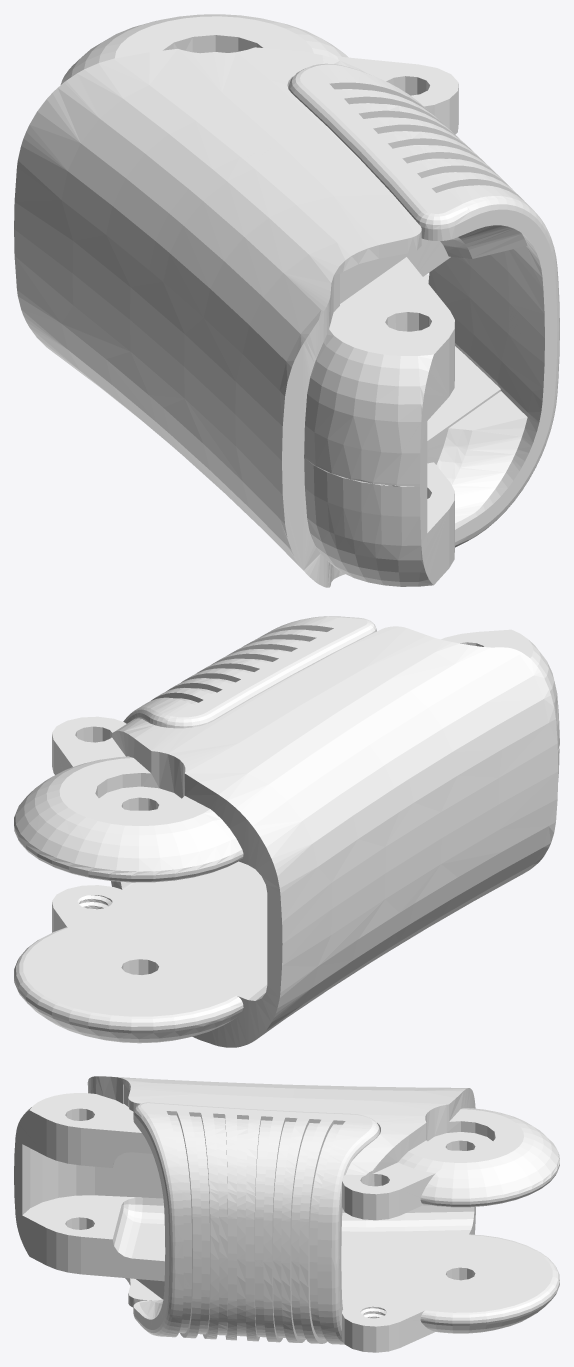
The model's file is rh_index_middle_vis.obj.
3 renders of one model, top to bottom at view 1: azimuth 30°, elevation 25°; view 2: azimuth 150°, elevation 25°; view 3: azimuth 270°, elevation 25°, orthographic. The views are drawn at different scales.
Visible parts, largest first — view 1: rh_index_middle; view 2: rh_index_middle; view 3: rh_index_middle.
Boxes of the visible parts, x1=… form: rh_index_middle: x1=14, y1=14, x2=559, y2=587; rh_index_middle: x1=14, y1=616, x2=559, y2=1047; rh_index_middle: x1=14, y1=1076, x2=559, y2=1352.
Size of the model in its own units: 0.0196 by 0.016 by 0.0369.
1 material, 1 textured.
